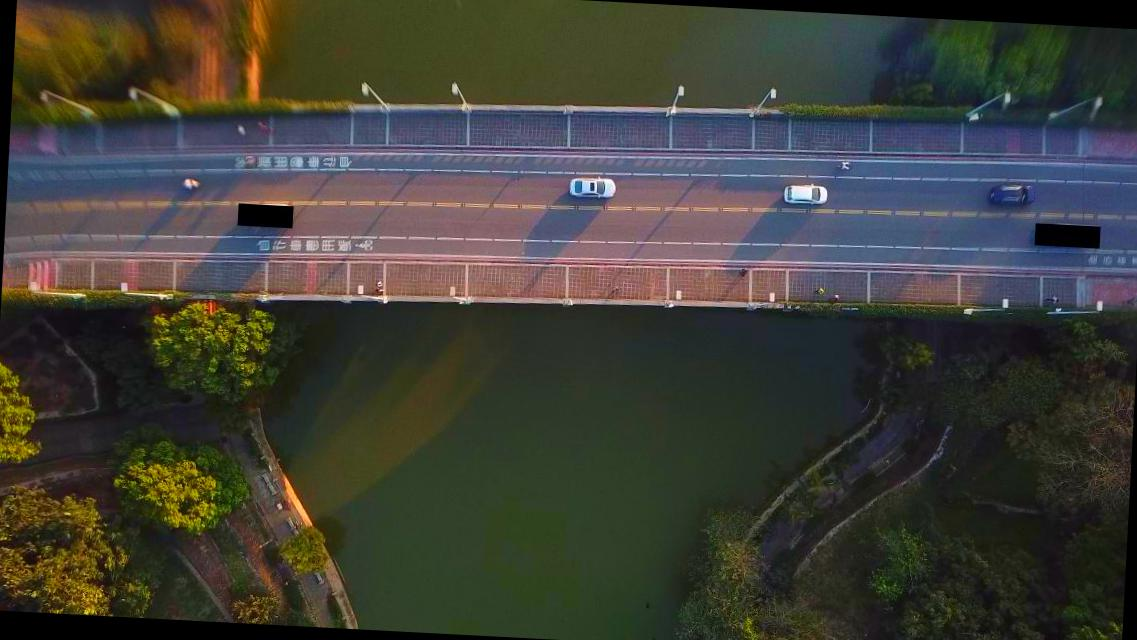vehicle: (567, 175, 615, 198), (782, 183, 828, 206), (988, 183, 1036, 204)
